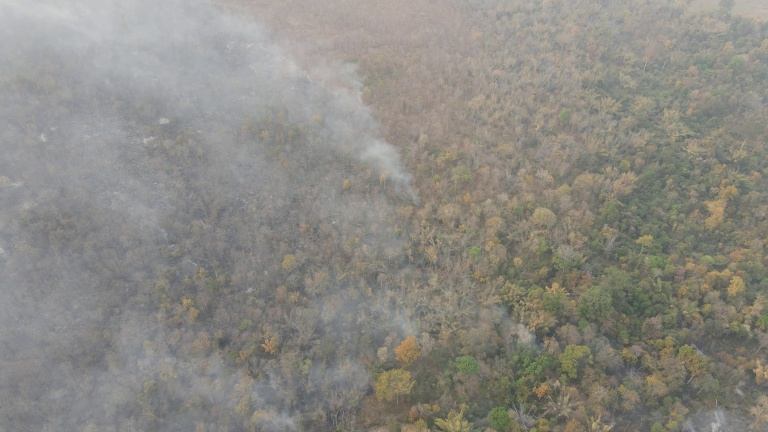smoke: (1, 1, 419, 429), (488, 300, 543, 352), (686, 402, 735, 432)
